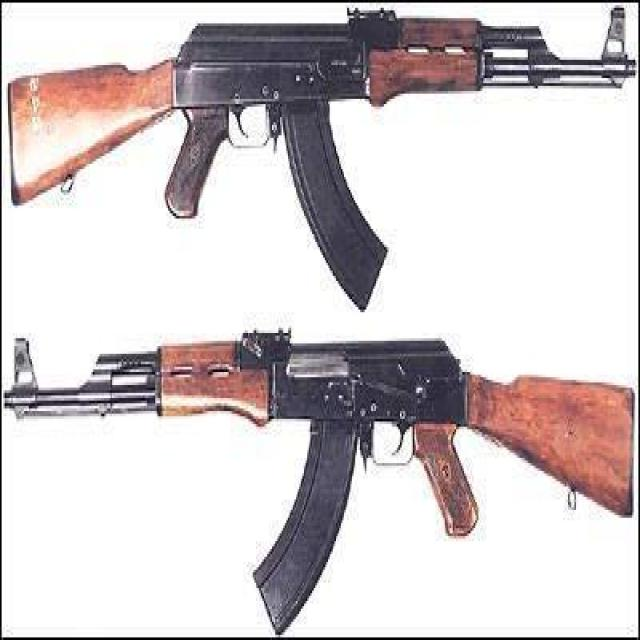Gun: (8, 315, 620, 617), (14, 14, 633, 288)
